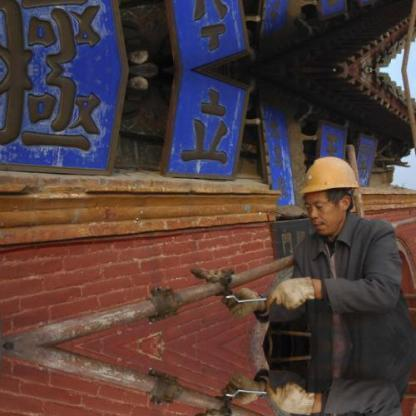helmet: (297, 151, 366, 206)
